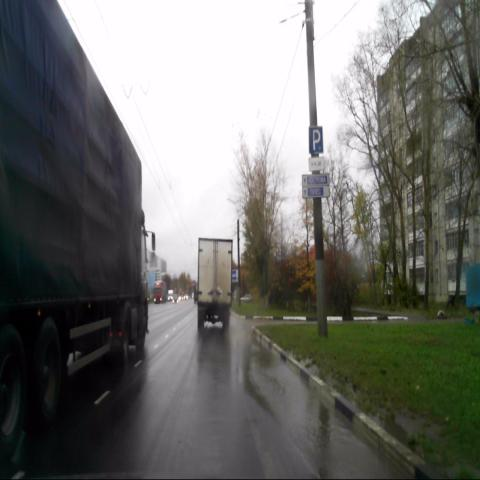6_4: (308, 126, 323, 152)
8_8: (308, 157, 324, 170)
